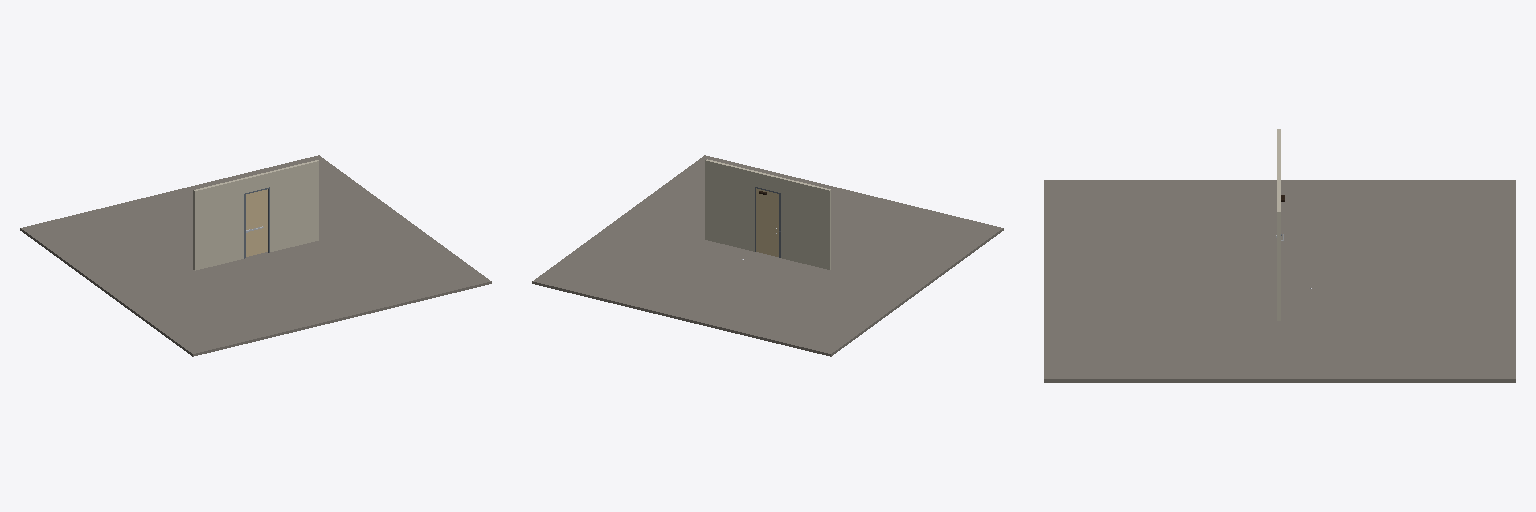
The robot description file, URDF, robot "db0618_swing_single_simple":
<?xml version="1.0" ?>
<robot xmlns:doorbench="https://github.com/adamraudonis/DoorBench/schema/urdf-ext" name="db0618_swing_single_simple">
  <link name="world_env">
    <visual name="floor_vis">
      <origin xyz="0 0 -0.05" rpy="0 0 0"/>
      <geometry>
        <box size="12 12 0.1"/>
      </geometry>
      <material name="mat_floor"/>
    </visual>
    <collision name="floor_col">
      <origin xyz="0 0 -0.05" rpy="0 0 0"/>
      <geometry>
        <box size="12 12 0.1"/>
      </geometry>
    </collision>
    <visual name="wall_left_vis">
      <origin xyz="-1.52025 -0.0285 1.5255" rpy="0 0 0"/>
      <geometry>
        <box size="1.9595 0.115 3.051"/>
      </geometry>
      <material name="mat_wall"/>
    </visual>
    <collision name="wall_left_col">
      <origin xyz="-1.52025 -0.0285 1.5255" rpy="0 0 0"/>
      <geometry>
        <box size="1.9595 0.115 3.051"/>
      </geometry>
    </collision>
    <visual name="wall_right_vis">
      <origin xyz="1.50525 -0.0285 1.5255" rpy="0 0 0"/>
      <geometry>
        <box size="1.9895 0.115 3.051"/>
      </geometry>
      <material name="mat_wall"/>
    </visual>
    <collision name="wall_right_col">
      <origin xyz="1.50525 -0.0285 1.5255" rpy="0 0 0"/>
      <geometry>
        <box size="1.9895 0.115 3.051"/>
      </geometry>
    </collision>
    <visual name="wall_header_vis">
      <origin xyz="-0.015 -0.0285 2.791" rpy="0 0 0"/>
      <geometry>
        <box size="1.051 0.115 0.52"/>
      </geometry>
      <material name="mat_wall"/>
    </visual>
    <collision name="wall_header_col">
      <origin xyz="-0.015 -0.0285 2.791" rpy="0 0 0"/>
      <geometry>
        <box size="1.051 0.115 0.52"/>
      </geometry>
    </collision>
    <visual name="hinge_0_jamb_vis">
      <origin xyz="0.4575 0.029 0.259" rpy="0 0 3.141593"/>
      <geometry>
        <mesh filename="../../hardware/hinge_jamb_e1d088f8dc.obj"/>
      </geometry>
      <material name="mat_hinge"/>
    </visual>
    <visual name="hinge_1_jamb_vis">
      <origin xyz="0.4575 0.029 0.928333" rpy="0 0 3.141593"/>
      <geometry>
        <mesh filename="../../hardware/hinge_jamb_e1d088f8dc.obj"/>
      </geometry>
      <material name="mat_hinge"/>
    </visual>
    <visual name="hinge_2_jamb_vis">
      <origin xyz="0.4575 0.029 1.597667" rpy="0 0 3.141593"/>
      <geometry>
        <mesh filename="../../hardware/hinge_jamb_e1d088f8dc.obj"/>
      </geometry>
      <material name="mat_hinge"/>
    </visual>
    <visual name="hinge_3_jamb_vis">
      <origin xyz="0.4575 0.029 2.267" rpy="0 0 3.141593"/>
      <geometry>
        <mesh filename="../../hardware/hinge_jamb_e1d088f8dc.obj"/>
      </geometry>
      <material name="mat_hinge"/>
    </visual>
    <visual name="jamb_hinge_vis">
      <origin xyz="0.4855 -0.0285 1.2255" rpy="0 0 0"/>
      <geometry>
        <box size="0.05 0.115 2.451"/>
      </geometry>
      <material name="mat_frame"/>
    </visual>
    <collision name="jamb_hinge_col">
      <origin xyz="0.4855 -0.0285 1.2255" rpy="0 0 0"/>
      <geometry>
        <box size="0.05 0.115 2.451"/>
      </geometry>
    </collision>
    <visual name="strike_1016_wall_n_vis">
      <origin xyz="-0.5005 -0.0705 1.016" rpy="0 0 0"/>
      <geometry>
        <box size="0.08 0.031 0.04"/>
      </geometry>
      <material name="mat_frame"/>
    </visual>
    <collision name="strike_1016_wall_n_col">
      <origin xyz="-0.5005 -0.0705 1.016" rpy="0 0 0"/>
      <geometry>
        <box size="0.08 0.031 0.04"/>
      </geometry>
    </collision>
    <visual name="strike_1016_wall_p_vis">
      <origin xyz="-0.5005 -0.025 1.016" rpy="0 0 0"/>
      <geometry>
        <box size="0.08 0.016 0.04"/>
      </geometry>
      <material name="mat_frame"/>
    </visual>
    <collision name="strike_1016_wall_p_col">
      <origin xyz="-0.5005 -0.025 1.016" rpy="0 0 0"/>
      <geometry>
        <box size="0.08 0.016 0.04"/>
      </geometry>
    </collision>
    <visual name="strike_1016_ramp_vis">
      <origin xyz="-0.508781 0.0044 1.016" rpy="0 0 0.294235"/>
      <geometry>
        <box size="0.08 0.068964 0.04"/>
      </geometry>
      <material name="mat_frame"/>
    </visual>
    <collision name="strike_1016_ramp_col">
      <origin xyz="-0.508781 0.0044 1.016" rpy="0 0 0.294235"/>
      <geometry>
        <box size="0.08 0.068964 0.04"/>
      </geometry>
    </collision>
    <visual name="strike_1016_back_vis">
      <origin xyz="-0.512 -0.044 1.016" rpy="0 0 0"/>
      <geometry>
        <box size="0.057 0.022 0.04"/>
      </geometry>
      <material name="mat_frame"/>
    </visual>
    <collision name="strike_1016_back_col">
      <origin xyz="-0.512 -0.044 1.016" rpy="0 0 0"/>
      <geometry>
        <box size="0.057 0.022 0.04"/>
      </geometry>
    </collision>
    <visual name="jamb_strike_0_vis">
      <origin xyz="-0.5005 -0.0285 0.498" rpy="0 0 0"/>
      <geometry>
        <box size="0.08 0.115 0.996"/>
      </geometry>
      <material name="mat_frame"/>
    </visual>
    <collision name="jamb_strike_0_col">
      <origin xyz="-0.5005 -0.0285 0.498" rpy="0 0 0"/>
      <geometry>
        <box size="0.08 0.115 0.996"/>
      </geometry>
    </collision>
    <visual name="jamb_strike_1_vis">
      <origin xyz="-0.5005 -0.0285 1.7435" rpy="0 0 0"/>
      <geometry>
        <box size="0.08 0.115 1.415"/>
      </geometry>
      <material name="mat_frame"/>
    </visual>
    <collision name="jamb_strike_1_col">
      <origin xyz="-0.5005 -0.0285 1.7435" rpy="0 0 0"/>
      <geometry>
        <box size="0.08 0.115 1.415"/>
      </geometry>
    </collision>
    <visual name="jamb_head_vis">
      <origin xyz="-0.015 -0.0285 2.476" rpy="0 0 0"/>
      <geometry>
        <box size="1.051 0.115 0.05"/>
      </geometry>
      <material name="mat_frame"/>
    </visual>
    <collision name="jamb_head_col">
      <origin xyz="-0.015 -0.0285 2.476" rpy="0 0 0"/>
      <geometry>
        <box size="1.051 0.115 0.05"/>
      </geometry>
    </collision>
    <visual name="head_stud_vis">
      <origin xyz="-0.015 -0.0285 2.516" rpy="0 0 0"/>
      <geometry>
        <box size="1.051 0.115 0.03"/>
      </geometry>
      <material name="mat_wall"/>
    </visual>
    <collision name="head_stud_col">
      <origin xyz="-0.015 -0.0285 2.516" rpy="0 0 0"/>
      <geometry>
        <box size="1.051 0.115 0.03"/>
      </geometry>
    </collision>
    <visual name="stop_hinge_vis">
      <origin xyz="0.455 -0.0385 1.2255" rpy="0 0 0"/>
      <geometry>
        <box size="0.011 0.032 2.451"/>
      </geometry>
      <material name="mat_frame"/>
    </visual>
    <collision name="stop_hinge_col">
      <origin xyz="0.455 -0.0385 1.2255" rpy="0 0 0"/>
      <geometry>
        <box size="0.011 0.032 2.451"/>
      </geometry>
    </collision>
    <visual name="stop_strike_vis">
      <origin xyz="-0.455 -0.0385 0.48425" rpy="0 0 0"/>
      <geometry>
        <box size="0.011 0.032 0.9685"/>
      </geometry>
      <material name="mat_frame"/>
    </visual>
    <collision name="stop_strike_col">
      <origin xyz="-0.455 -0.0385 0.48425" rpy="0 0 0"/>
      <geometry>
        <box size="0.011 0.032 0.9685"/>
      </geometry>
    </collision>
    <visual name="stop_strike_1_vis">
      <origin xyz="-0.455 -0.0385 1.75725" rpy="0 0 0"/>
      <geometry>
        <box size="0.011 0.032 1.3875"/>
      </geometry>
      <material name="mat_frame"/>
    </visual>
    <collision name="stop_strike_1_col">
      <origin xyz="-0.455 -0.0385 1.75725" rpy="0 0 0"/>
      <geometry>
        <box size="0.011 0.032 1.3875"/>
      </geometry>
    </collision>
    <visual name="stop_head_vis">
      <origin xyz="0 -0.0385 2.4455" rpy="0 0 0"/>
      <geometry>
        <box size="0.921 0.032 0.011"/>
      </geometry>
      <material name="mat_frame"/>
    </visual>
    <collision name="stop_head_col">
      <origin xyz="0 -0.0385 2.4455" rpy="0 0 0"/>
      <geometry>
        <box size="0.921 0.032 0.011"/>
      </geometry>
    </collision>
    <visual name="seal_hinge_vis">
      <origin xyz="0.4575 -0.0245 1.2255" rpy="0 0 0"/>
      <geometry>
        <box size="0.008 0.005 2.451"/>
      </geometry>
      <material name="mat_seal"/>
    </visual>
    <visual name="seal_strike_vis">
      <origin xyz="-0.4575 -0.0245 0.48425" rpy="0 0 0"/>
      <geometry>
        <box size="0.008 0.005 0.9685"/>
      </geometry>
      <material name="mat_seal"/>
    </visual>
    <visual name="seal_strike_1_vis">
      <origin xyz="-0.4575 -0.0245 1.75725" rpy="0 0 0"/>
      <geometry>
        <box size="0.008 0.005 1.3875"/>
      </geometry>
      <material name="mat_seal"/>
    </visual>
    <visual name="seal_head_vis">
      <origin xyz="0 -0.0245 2.439" rpy="0 0 0"/>
      <geometry>
        <box size="0.881 0.005 0.016"/>
      </geometry>
      <material name="mat_seal"/>
    </visual>
    <visual name="floor_stop_dome_vis">
      <origin xyz="0.545135 0.801201 0" rpy="0 0 0"/>
      <geometry>
        <sphere radius="0.025"/>
      </geometry>
      <material name="mat_stop"/>
    </visual>
    <collision name="floor_stop_dome_col">
      <origin xyz="0.545135 0.801201 0" rpy="0 0 0"/>
      <geometry>
        <sphere radius="0.025"/>
      </geometry>
    </collision>
  </link>
  <link name="leaf">
    <inertial>
      <origin xyz="-0.428085 -0.015324 1.447677" rpy="0 0 0"/>
      <mass value="59.310645"/>
      <inertia ixx="34.893109116" ixy="-0.133394785" ixz="-1.918538055" iyy="38.651652964" iyz="-0.809830345" izz="3.909265056"/>
    </inertial>
    <visual name="leaf_slab_vis">
      <origin xyz="-0.457 -0.029 1.228" rpy="0 0 0"/>
      <geometry>
        <box size="0.914 0.044 2.438"/>
      </geometry>
      <material name="mat_leaf"/>
    </visual>
    <collision name="leaf_slab_col">
      <origin xyz="-0.457 -0.029 1.228" rpy="0 0 0"/>
      <geometry>
        <box size="0.914 0.044 2.438"/>
      </geometry>
    </collision>
    <visual name="hinge_0_vis">
      <origin xyz="0 0 0.259" rpy="0 0 3.141593"/>
      <geometry>
        <mesh filename="../../hardware/hinge_e22b26c0c1.obj"/>
      </geometry>
      <material name="mat_hinge"/>
    </visual>
    <visual name="hinge_1_vis">
      <origin xyz="0 0 0.928333" rpy="0 0 3.141593"/>
      <geometry>
        <mesh filename="../../hardware/hinge_e22b26c0c1.obj"/>
      </geometry>
      <material name="mat_hinge"/>
    </visual>
    <visual name="hinge_2_vis">
      <origin xyz="0 0 1.597667" rpy="0 0 3.141593"/>
      <geometry>
        <mesh filename="../../hardware/hinge_e22b26c0c1.obj"/>
      </geometry>
      <material name="mat_hinge"/>
    </visual>
    <visual name="hinge_3_vis">
      <origin xyz="0 0 2.267" rpy="0 0 3.141593"/>
      <geometry>
        <mesh filename="../../hardware/hinge_e22b26c0c1.obj"/>
      </geometry>
      <material name="mat_hinge"/>
    </visual>
    <visual name="leaf_exit_device_rail_vis">
      <origin xyz="-0.51695 -0.057 1.016" rpy="0 0 0"/>
      <geometry>
        <box size="0.6341 0.012 0.05"/>
      </geometry>
      <material name="mat_op_stainless"/>
    </visual>
    <collision name="leaf_exit_device_rail_col">
      <origin xyz="-0.51695 -0.057 1.016" rpy="0 0 0"/>
      <geometry>
        <box size="0.6341 0.012 0.05"/>
      </geometry>
    </collision>
    <visual name="leaf_exit_device_rail_end_n_vis">
      <origin xyz="-0.824 -0.0835 1.016" rpy="0 0 0"/>
      <geometry>
        <box size="0.02 0.065 0.05"/>
      </geometry>
      <material name="mat_op_stainless"/>
    </visual>
    <collision name="leaf_exit_device_rail_end_n_col">
      <origin xyz="-0.824 -0.0835 1.016" rpy="0 0 0"/>
      <geometry>
        <box size="0.02 0.065 0.05"/>
      </geometry>
    </collision>
    <visual name="leaf_exit_device_rail_end_p_vis">
      <origin xyz="-0.2099 -0.0835 1.016" rpy="0 0 0"/>
      <geometry>
        <box size="0.02 0.065 0.05"/>
      </geometry>
      <material name="mat_op_stainless"/>
    </visual>
    <collision name="leaf_exit_device_rail_end_p_col">
      <origin xyz="-0.2099 -0.0835 1.016" rpy="0 0 0"/>
      <geometry>
        <box size="0.02 0.065 0.05"/>
      </geometry>
    </collision>
    <visual name="leaf_exit_device_case_vis">
      <origin xyz="-0.868 -0.085125 1.016" rpy="0 0 0"/>
      <geometry>
        <box size="0.068 0.06825 0.075"/>
      </geometry>
      <material name="mat_op_stainless"/>
    </visual>
    <collision name="leaf_exit_device_case_col">
      <origin xyz="-0.868 -0.085125 1.016" rpy="0 0 0"/>
      <geometry>
        <box size="0.068 0.06825 0.075"/>
      </geometry>
    </collision>
    <visual name="leaf_far_pull_p_vis">
      <origin xyz="-0.824 -0.007 1.016" rpy="1.570796 0 3.141593"/>
      <geometry>
        <mesh filename="../../hardware/pull_1e5d69a91a.obj"/>
      </geometry>
      <material name="mat_op_stainless"/>
    </visual>
    <collision name="leaf_far_pull_col_p_col">
      <origin xyz="-0.824 0.053 1.016" rpy="0 0 0"/>
      <geometry>
        <cylinder radius="0.0095" length="0.16"/>
      </geometry>
    </collision>
    <visual name="closer_body_vis">
      <origin xyz="-0.297 -0.007 2.358" rpy="1.570796 0 3.141593"/>
      <geometry>
        <mesh filename="../../hardware/closer_body_fdc4667657.obj"/>
      </geometry>
      <material name="mat_closer"/>
    </visual>
    <collision name="closer_body_col_col">
      <origin xyz="-0.297 0.043 2.358" rpy="0 0 0"/>
      <geometry>
        <box size="0.29 0.1 0.07"/>
      </geometry>
    </collision>
  </link>
  <link name="leaf_exit_device">
    <inertial>
      <origin xyz="0 -0.05 0" rpy="0 0 0"/>
      <mass value="4.76361"/>
      <inertia ixx="0.00116113" ixy="0" ixz="0" iyy="0.138099678" iyz="0" izz="0.137653089"/>
    </inertial>
    <visual name="leaf_exit_device_pad_vis">
      <origin xyz="0 0 0" rpy="-1.570796 0 3.141593"/>
      <geometry>
        <mesh filename="../../hardware/touchbar_pad_2729a067b4.obj"/>
      </geometry>
      <material name="mat_op_stainless"/>
    </visual>
    <collision name="leaf_exit_device_pad_col_col">
      <origin xyz="0 -0.05 0" rpy="0 0 0"/>
      <geometry>
        <box size="0.5881 0.03 0.045"/>
      </geometry>
    </collision>
  </link>
  <link name="leaf_latch_bolt">
    <inertial>
      <origin xyz="0.0055 0 0" rpy="0 0 0"/>
      <mass value="0.102826"/>
      <inertia ixx="0.000004365" ixy="0" ixz="0" iyy="0.000018287" iyz="0" izz="0.000018287"/>
    </inertial>
    <visual name="leaf_latch_bolt_capsule_vis">
      <origin xyz="0.0055 0 0" rpy="0 -1.570796 0"/>
      <geometry>
        <cylinder radius="0.0095" length="0.03"/>
      </geometry>
      <material name="mat_bolt"/>
    </visual>
    <collision name="leaf_latch_bolt_capsule_col">
      <origin xyz="0.0055 0 0" rpy="0 -1.570796 0"/>
      <geometry>
        <cylinder radius="0.0095" length="0.03"/>
      </geometry>
    </collision>
  </link>
  <joint name="leaf_hinge" type="revolute">
    <origin xyz="0.4575 0.029 0" rpy="0 0 0"/>
    <parent link="world_env"/>
    <child link="leaf"/>
    <axis xyz="0 0 -1"/>
    <limit lower="0" upper="1.658063" effort="2000" velocity="10"/>
    <dynamics damping="12.307281" friction="2.750008"/>
    <doorbench:spring stiffness="15.508058" springref="-1.827437" note="tau = -stiffness*(q - springref); not native URDF"/>
    <doorbench:closer damping_closing="81" damping_opening="12" backcheck_angle="1.22" backcheck_damping="60"/>
  </joint>
  <joint name="leaf_exit_device_slide" type="prismatic">
    <origin xyz="-0.51695 -0.051 1.016" rpy="0 0 0"/>
    <parent link="leaf"/>
    <child link="leaf_exit_device"/>
    <axis xyz="0 1 0"/>
    <limit lower="0" upper="0.016" effort="5000" velocity="10"/>
    <dynamics damping="153.575154" friction="0.5"/>
    <doorbench:spring stiffness="1200" springref="-0.015" note="tau = -stiffness*(q - springref); not native URDF"/>
  </joint>
  <joint name="leaf_latch_bolt_slide" type="prismatic">
    <origin xyz="-0.914 -0.073 1.016" rpy="0 0 0"/>
    <parent link="leaf"/>
    <child link="leaf_latch_bolt"/>
    <axis xyz="1 0 0"/>
    <limit lower="0" upper="0.019" effort="5000" velocity="10"/>
    <dynamics damping="2" friction="0.3"/>
    <doorbench:spring stiffness="800" springref="-0.01" note="tau = -stiffness*(q - springref); not native URDF"/>
    <mimic joint="leaf_exit_device_slide" multiplier="1.357143" offset="0"/>
    <doorbench:coupling one_sided="true" note="MJCF uses a one-sided tendon (bolt may retract further, e.g. riding over the strike lip); mimic is bilateral"/>
  </joint>
  <material name="mat_bolt">
    <color rgba="0.75 0.76 0.77 1"/>
  </material>
  <material name="mat_closer">
    <color rgba="0.22 0.17 0.13 1"/>
  </material>
  <material name="mat_floor">
    <color rgba="0.55 0.53 0.5 1"/>
  </material>
  <material name="mat_frame">
    <color rgba="0.45 0.48 0.52 1"/>
  </material>
  <material name="mat_hinge">
    <color rgba="0.65 0.66 0.68 1"/>
  </material>
  <material name="mat_leaf">
    <color rgba="0.82 0.75 0.62 1"/>
  </material>
  <material name="mat_op_stainless">
    <color rgba="0.75 0.76 0.77 1"/>
  </material>
  <material name="mat_seal">
    <color rgba="0.1 0.1 0.1 1"/>
  </material>
  <material name="mat_stop">
    <color rgba="0.9 0.9 0.92 1"/>
  </material>
  <material name="mat_wall">
    <color rgba="0.78 0.76 0.7 1"/>
  </material>
</robot>

--- What the picture shows (computed from the rendered views, not written in the file) ---
3 views of the same robot in one strip: view 1: azimuth 30°, elevation 25°; view 2: azimuth 150°, elevation 25°; view 3: azimuth 270°, elevation 25° (orthographic).
Model db0618_swing_single_simple with 4 links and 3 joints (1 revolute, 2 prismatic), rooted at world_env, posed all joints at 0.
Visible links, largest first — view 1: world_env, leaf; view 2: world_env, leaf; view 3: world_env.
Boxes of the visible links, x1=… form: world_env: x1=20, y1=155, x2=491, y2=356; leaf: x1=246, y1=189, x2=267, y2=256; world_env: x1=532, y1=155, x2=1003, y2=356; leaf: x1=756, y1=188, x2=778, y2=256; world_env: x1=1044, y1=129, x2=1515, y2=382.
Size in the robot's own frame: 12 by 12 by 3.15 metres.
Meshes: 5 distinct files referenced, 11 mesh visuals loaded (5 OBJ).
